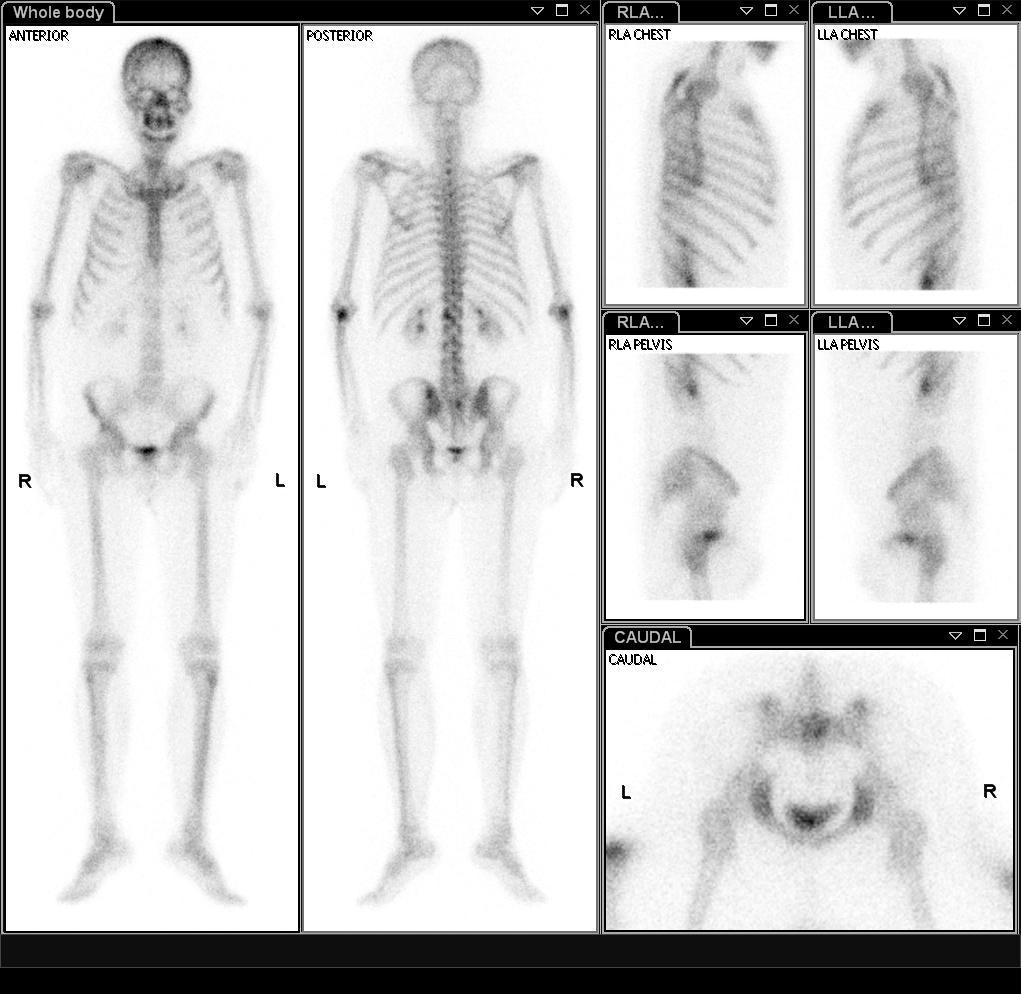person: (5, 24, 596, 933)
